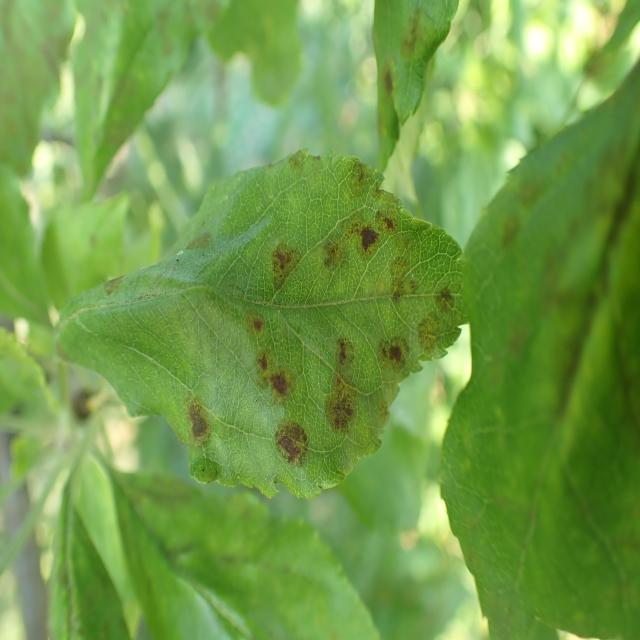scab: (73, 131, 458, 521), (482, 103, 640, 593), (6, 477, 360, 638), (65, 0, 211, 121), (0, 0, 71, 180), (365, 3, 464, 129)
